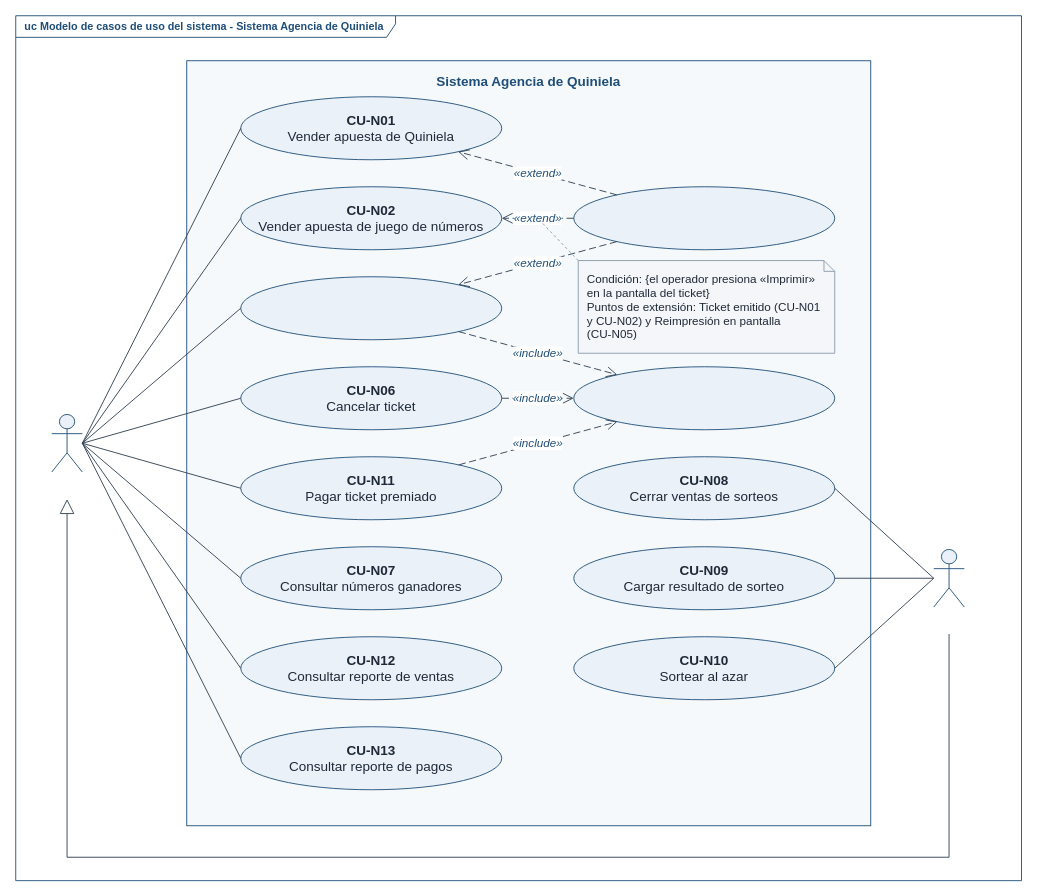
This 1038x896 diagram has some shape labels left out. Here are the shapes that lost their labels. From the top down, the centre of each, then its label:
the point at 704,218: CU-N03 Imprimir ticket
the point at 371,308: CU-N05 Reimprimir ticket
the point at 704,398: CU-N04 Buscar ticket
the point at 66,443: Operador
the point at 948,578: Administrador
